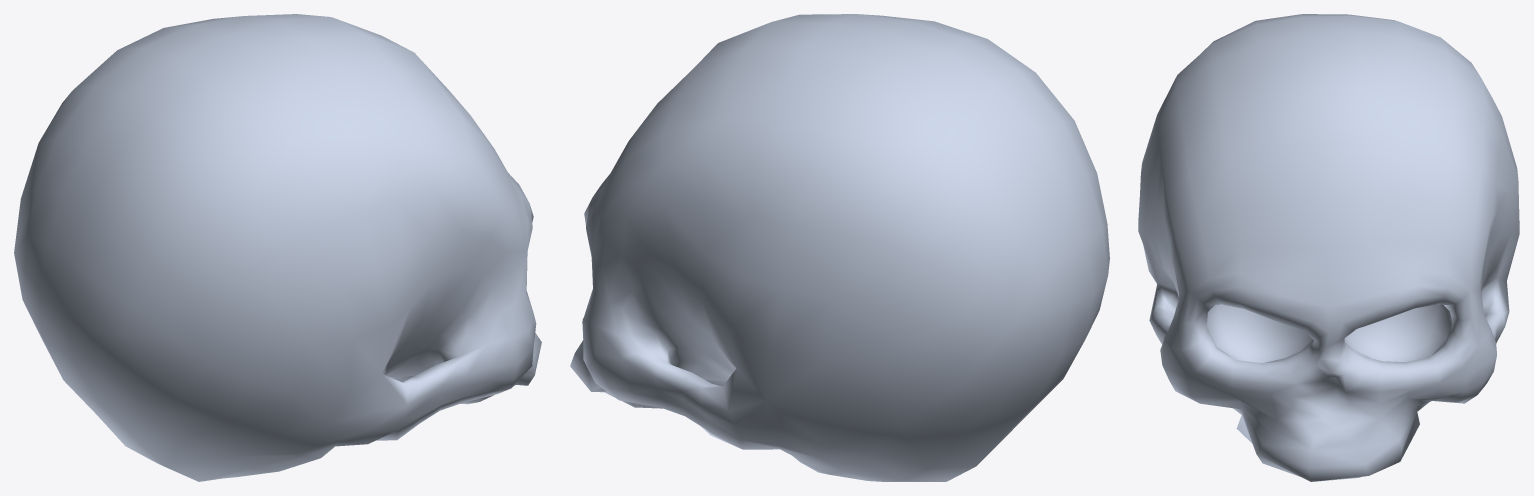
File: SM_Skull_Unity.fbx
3 renders of one model, left to right at view 1: azimuth 30°, elevation 25°; view 2: azimuth 150°, elevation 25°; view 3: azimuth 270°, elevation 25°, orthographic. The views are drawn at different scales.
Visible parts, largest first — view 1: SM_Skull_Unity; view 2: SM_Skull_Unity; view 3: SM_Skull_Unity.
Part boxes in pixels (x1,y1,x2,y2): SM_Skull_Unity: (14, 14, 541, 481); SM_Skull_Unity: (570, 14, 1109, 481); SM_Skull_Unity: (1138, 14, 1519, 481).
Bounding box in the file's own units: 0.3232 × 0.2644 × 0.2519.
